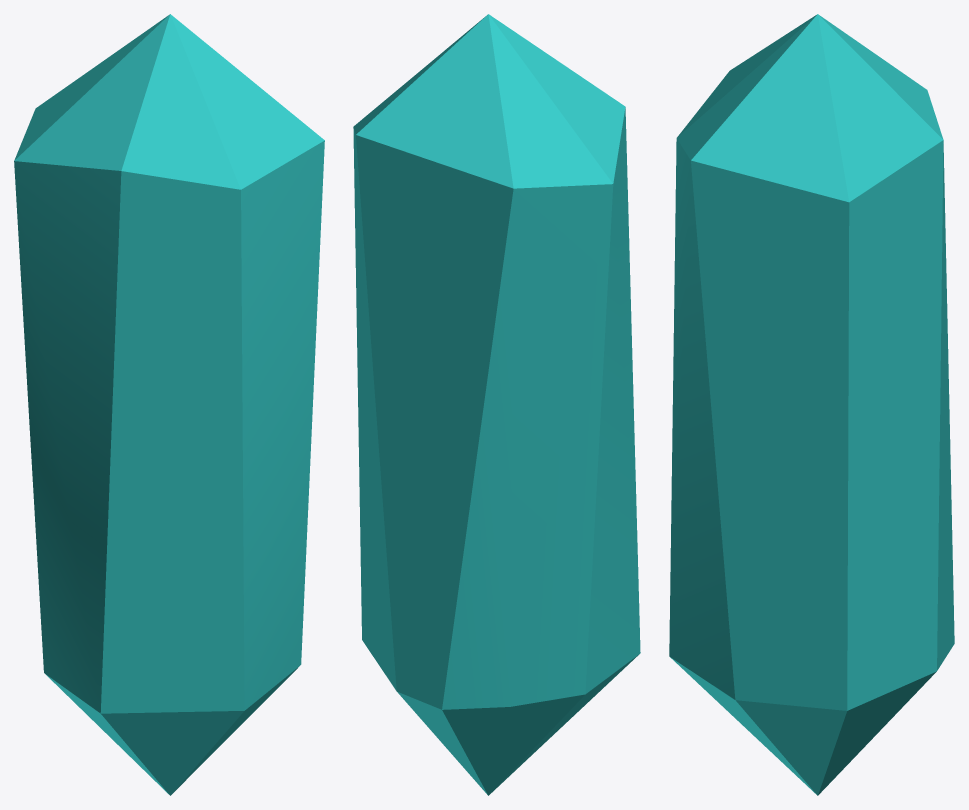
File: crystal_chronicle.FBX
The picture shows the model from 3 angles, left to right: view 1: azimuth 30°, elevation 25°; view 2: azimuth 150°, elevation 25°; view 3: azimuth 270°, elevation 25°; orthographic projection.
Parts seen in each view (by area): view 1: Sphere001; view 2: Sphere001; view 3: Sphere001.
Boxes of the visible parts, x1,y1,x2,y2 form: Sphere001: [14, 14, 324, 795]; Sphere001: [353, 14, 640, 795]; Sphere001: [669, 14, 954, 795].
Size of the model in its own units: 2.92 by 2.78 by 8.4.
